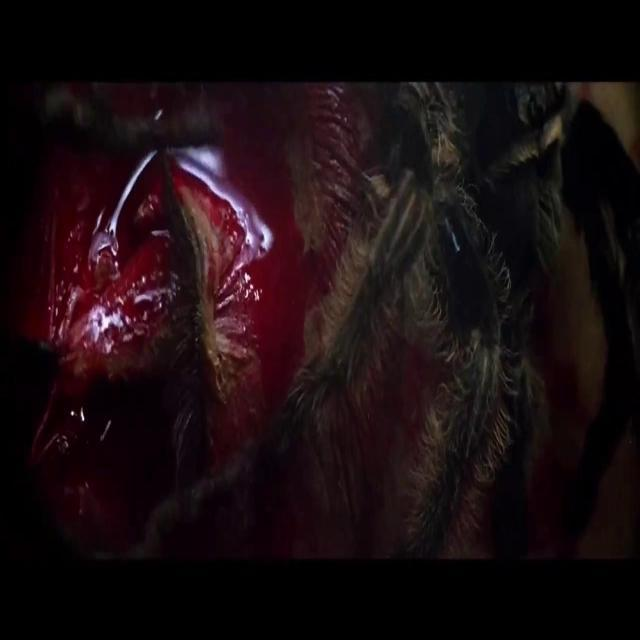flood: (45, 145, 289, 496)
